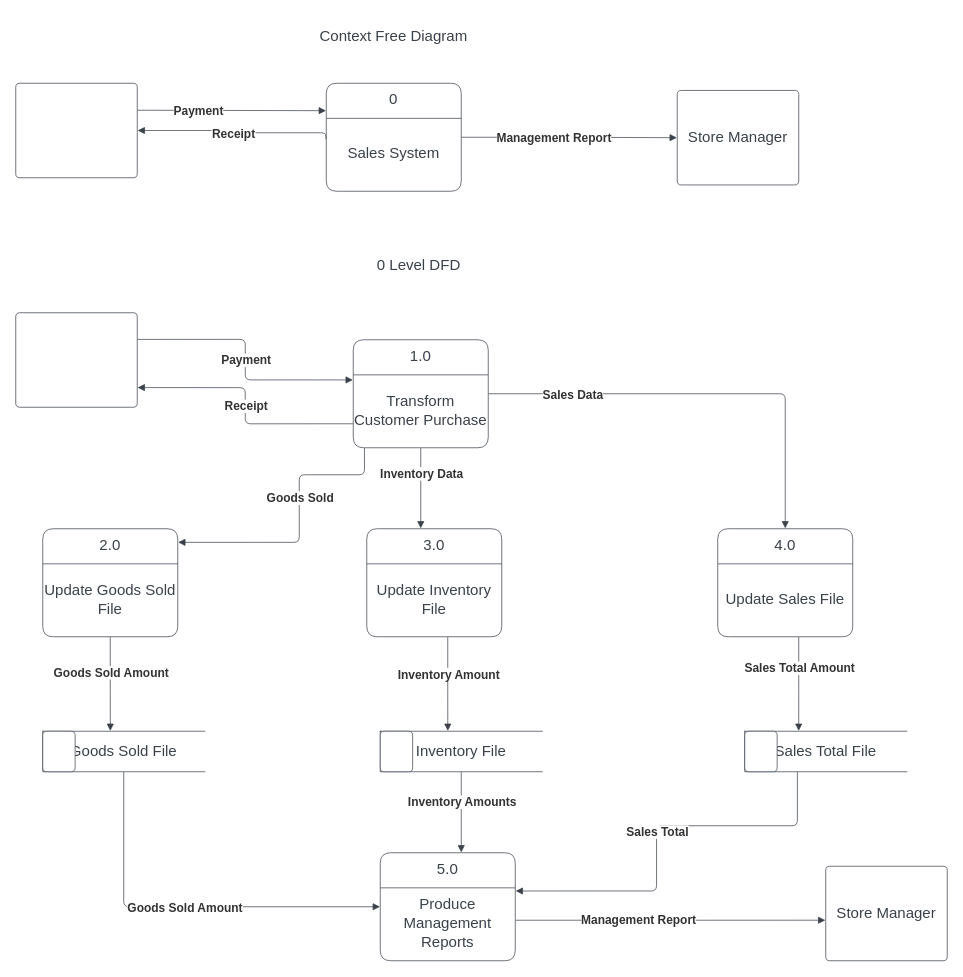
The diagram is 963 pixels wide and 977 high, and some of its shapes have lost their labels. The shapes that lost their labels are listed below. From the top down, each one's centre as x and y in pixels, then its label:
pixel 76 130: Customer
pixel 76 359: External Entity
